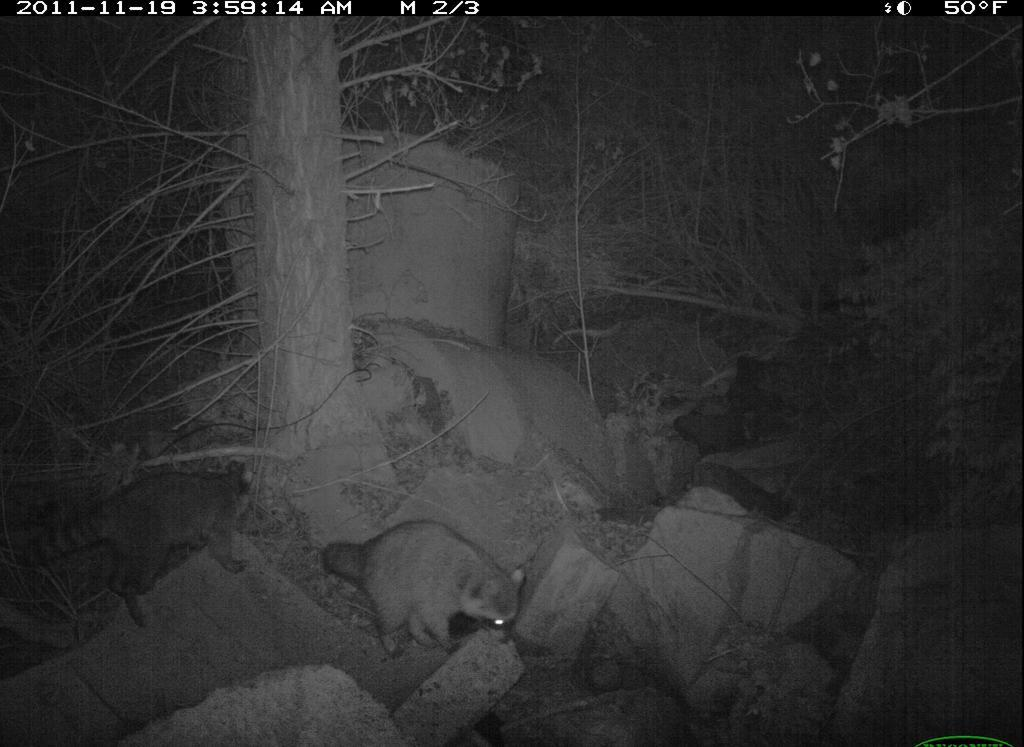raccoon: (321, 515, 539, 655)
